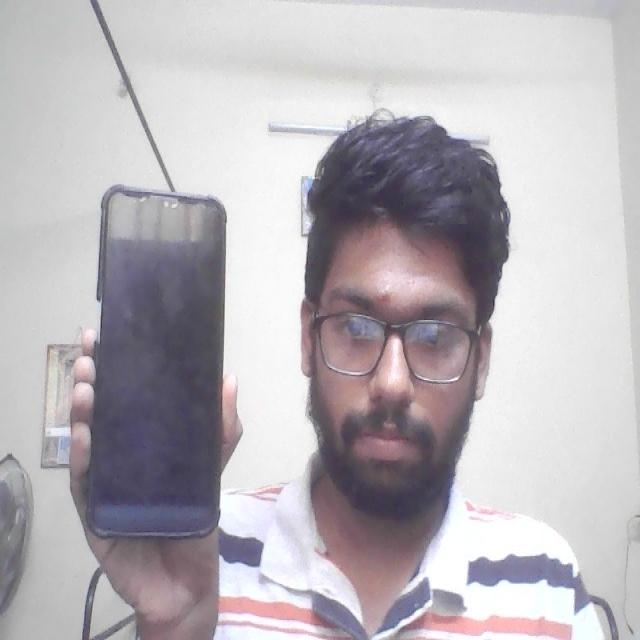Mobile: (79, 177, 232, 547)
